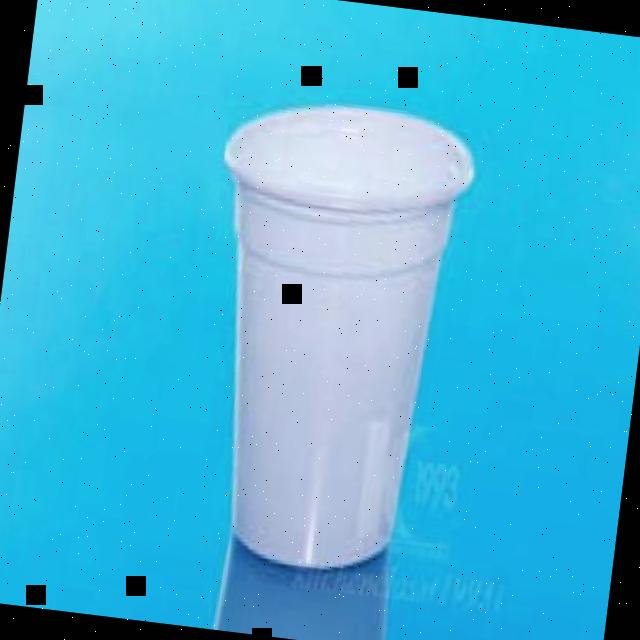plastic_cup: (173, 87, 477, 584)
